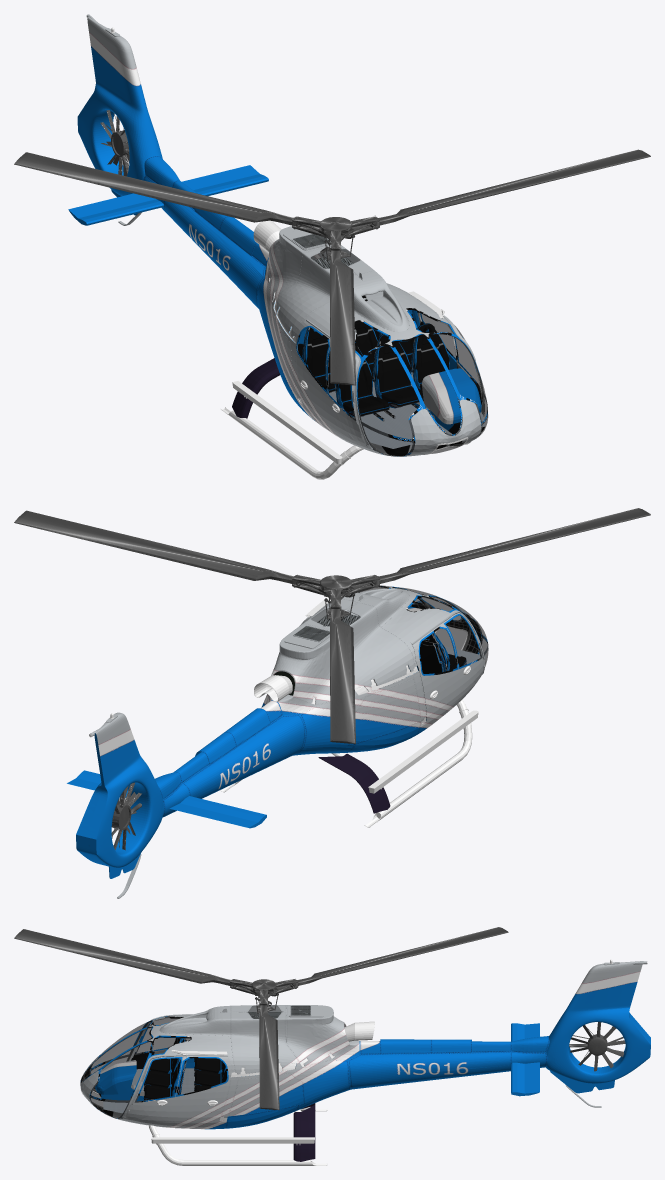
The model's file is Helicopter.fbx.
The picture shows the model from 3 angles, top to bottom: view 1: azimuth 30°, elevation 25°; view 2: azimuth 150°, elevation 25°; view 3: azimuth 270°, elevation 25°; orthographic projection. The views are drawn at different scales.
Parts seen in each view (by area): view 1: helicopter.Shape; view 2: helicopter.Shape; view 3: helicopter.Shape.
Boxes of the visible parts, x1,y1,x2,y2 form: helicopter.Shape: [14, 14, 650, 479]; helicopter.Shape: [14, 508, 650, 898]; helicopter.Shape: [14, 927, 650, 1165].
Size of the model in its own units: 300 by 136 by 441.
6 materials, 5 textured.
